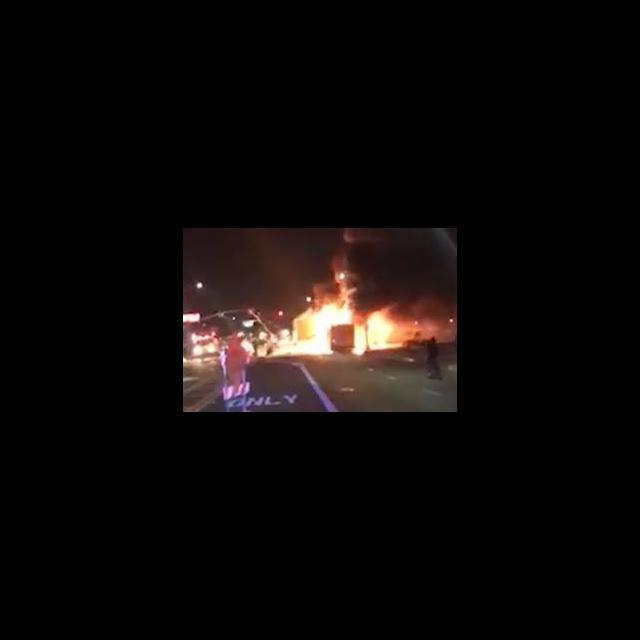Fire: (251, 292, 398, 355)
